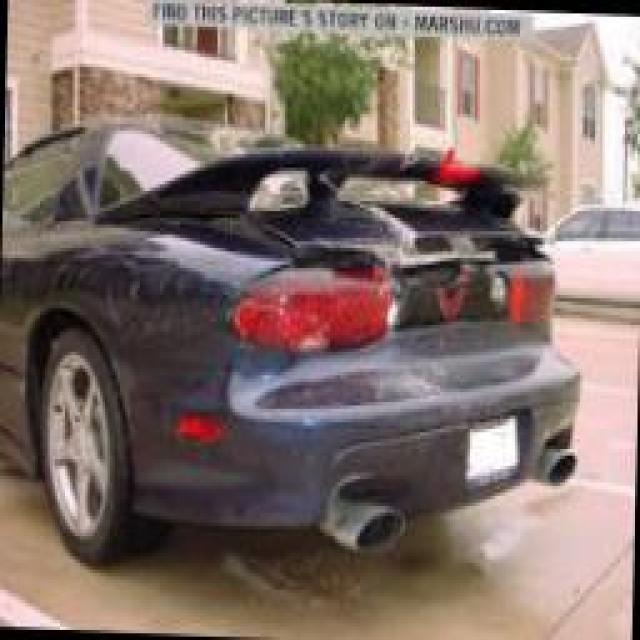Light: (228, 258, 398, 355)
